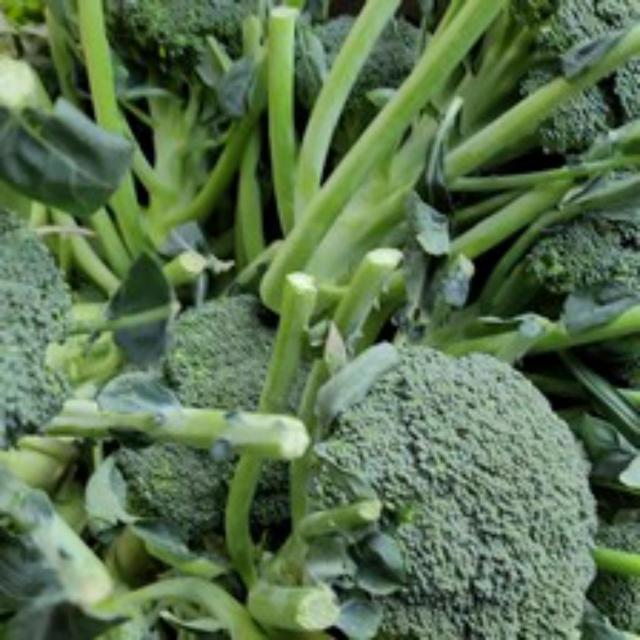broccoli: (280, 317, 600, 637)
